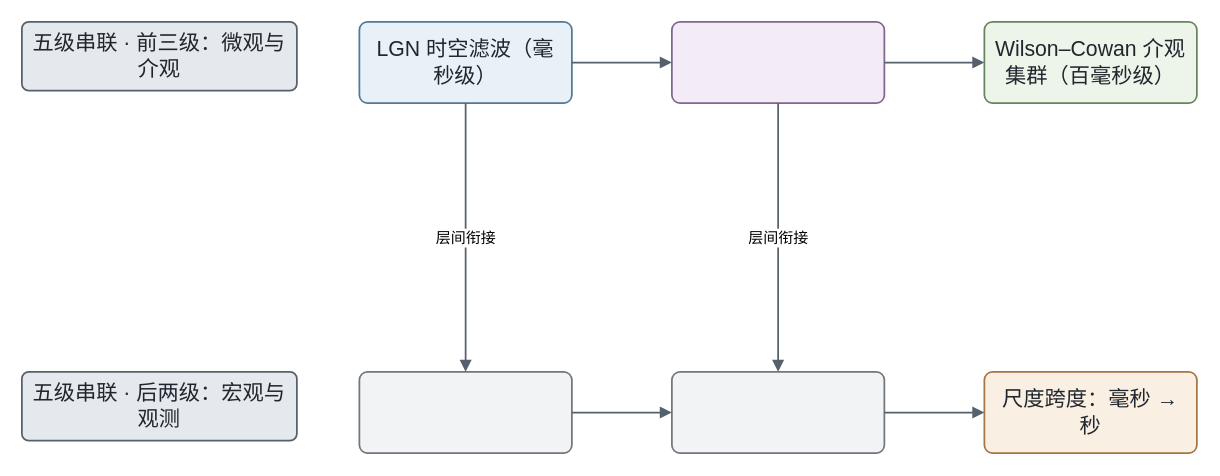
Image size: 1220x476. Some labels were removed from this diagram. Each missing label, with the centre of its shape:
"Kuramoto 同步与序参数（秒级）" belongs at point (465, 411).
"头皮导联场观测" belongs at point (777, 411).
"形状选择与除法归一化（十毫秒级）" belongs at point (777, 61).
